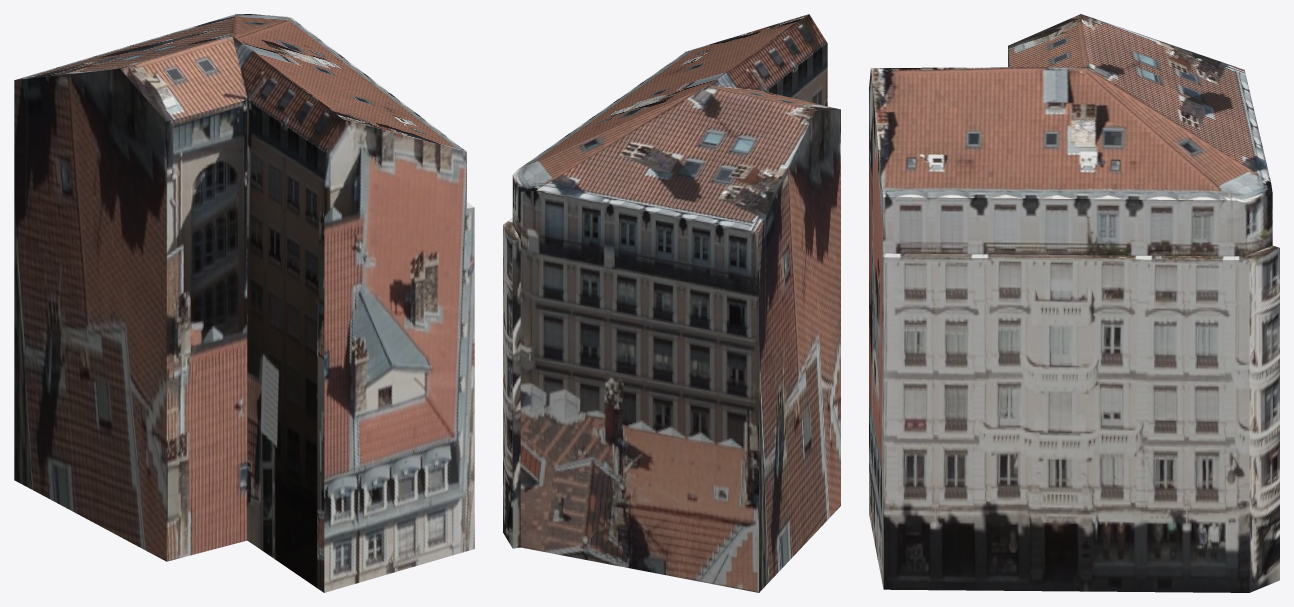
The picture shows the model from 3 angles, left to right: view 1: azimuth 30°, elevation 25°; view 2: azimuth 150°, elevation 25°; view 3: azimuth 270°, elevation 25°; orthographic projection. The views are drawn at different scales.
Visible parts, largest first — view 1: Z_UP; view 2: Z_UP; view 3: Z_UP.
Part boxes in pixels (bbox=[...]): Z_UP: bbox=[14, 14, 474, 592]; Z_UP: bbox=[503, 14, 840, 592]; Z_UP: bbox=[869, 14, 1279, 592].
Bounding box in the file's own units: 17.09 × 27.26 × 22.18.
2 materials, 1 textured.
